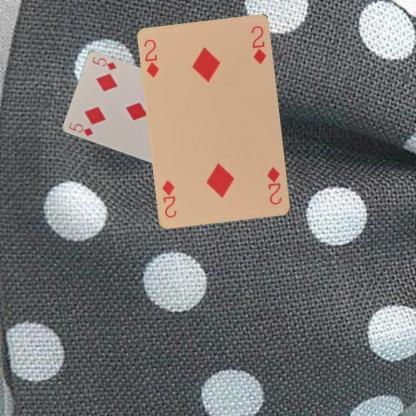2d: (265, 164, 283, 206), (142, 37, 160, 79)
5d: (66, 120, 94, 138)
